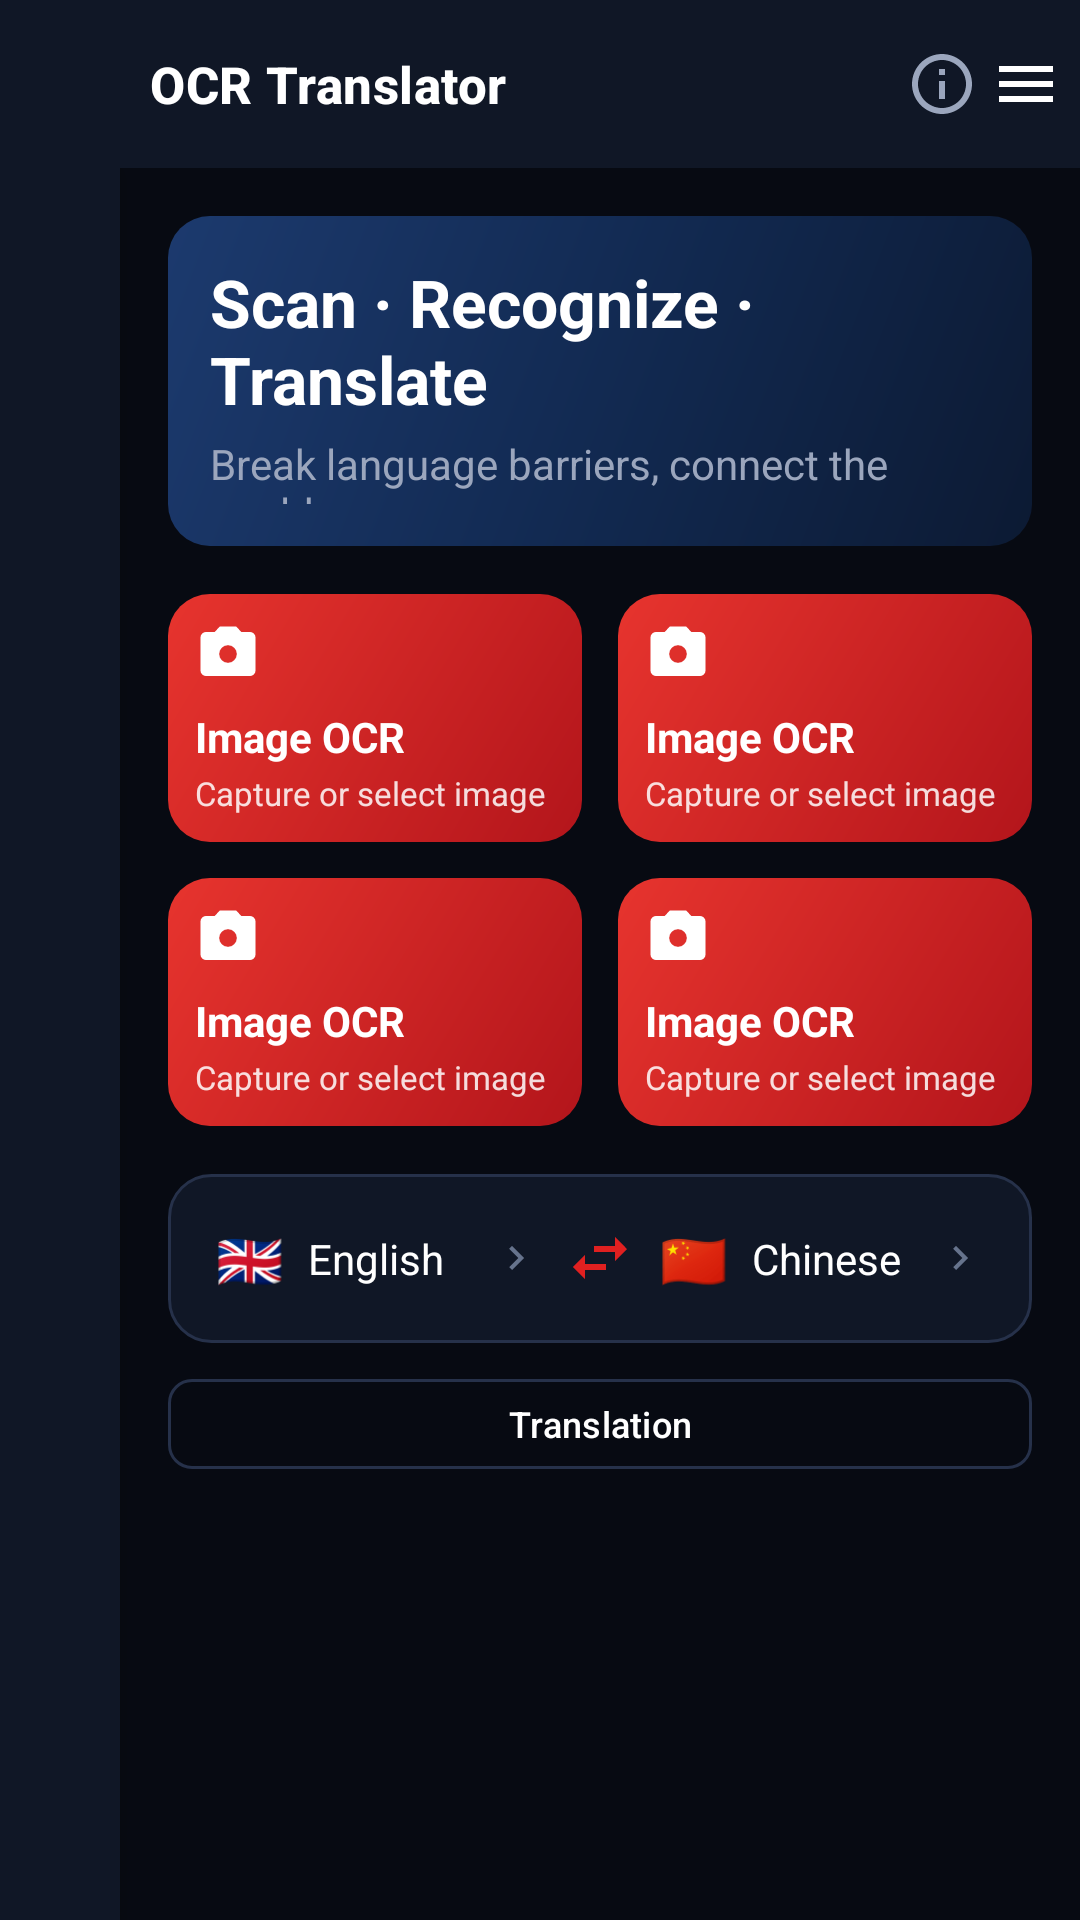

Icon click points for this 1080 × 1920 phone screenshot, format (x=x, y=y):
chevron: (x=516, y=1258), (x=960, y=1258)
Expand menu: (x=1026, y=84)
Swap languages: (x=600, y=1258)
